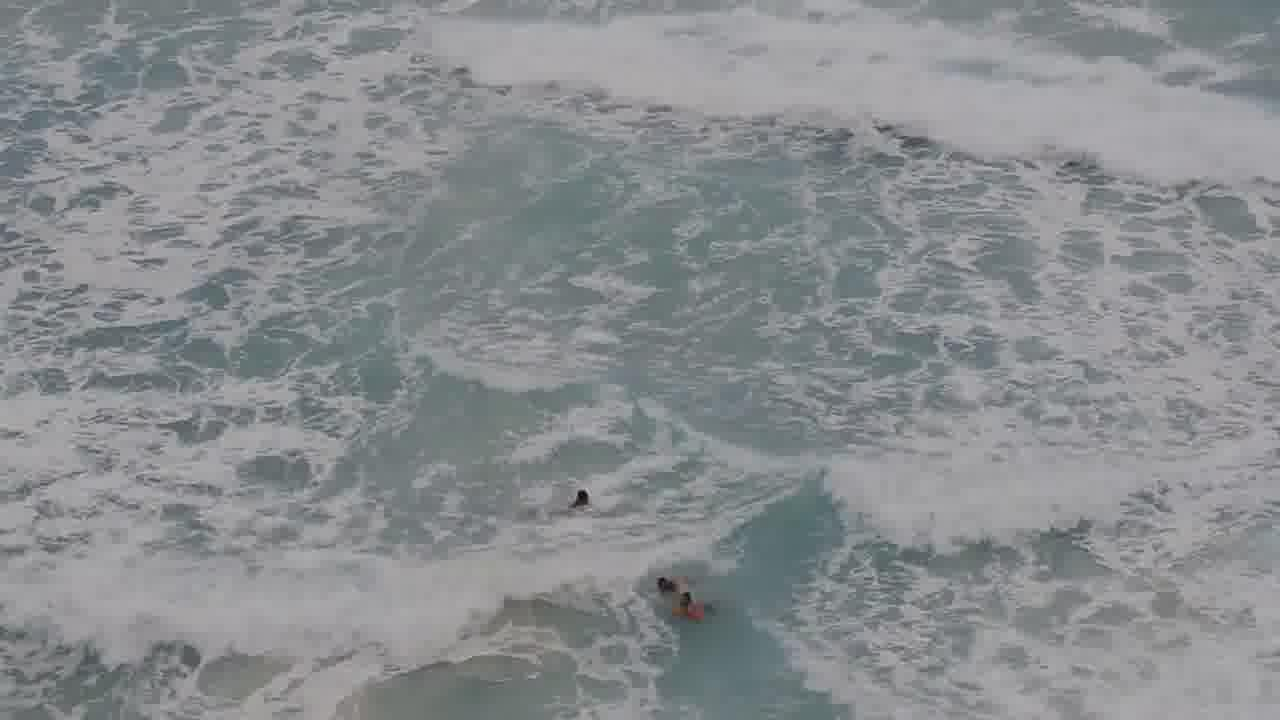swimmer: (564, 480, 606, 509), (677, 586, 706, 617), (648, 570, 670, 602)
